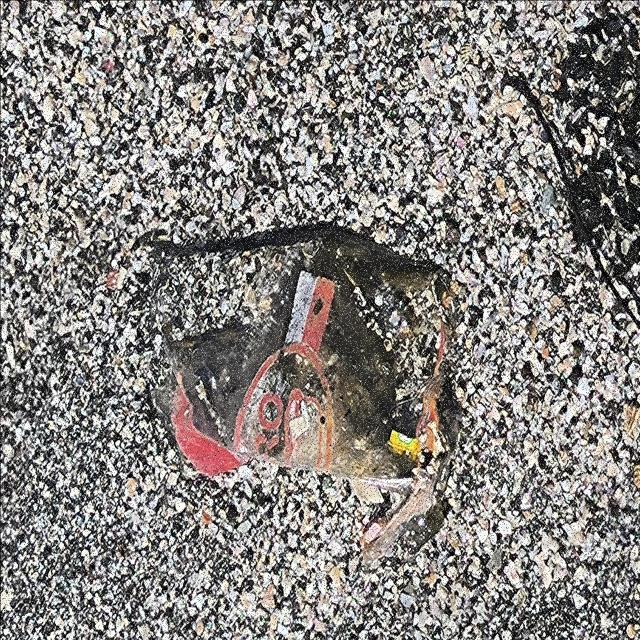plastic_waste: (162, 266, 455, 482)
